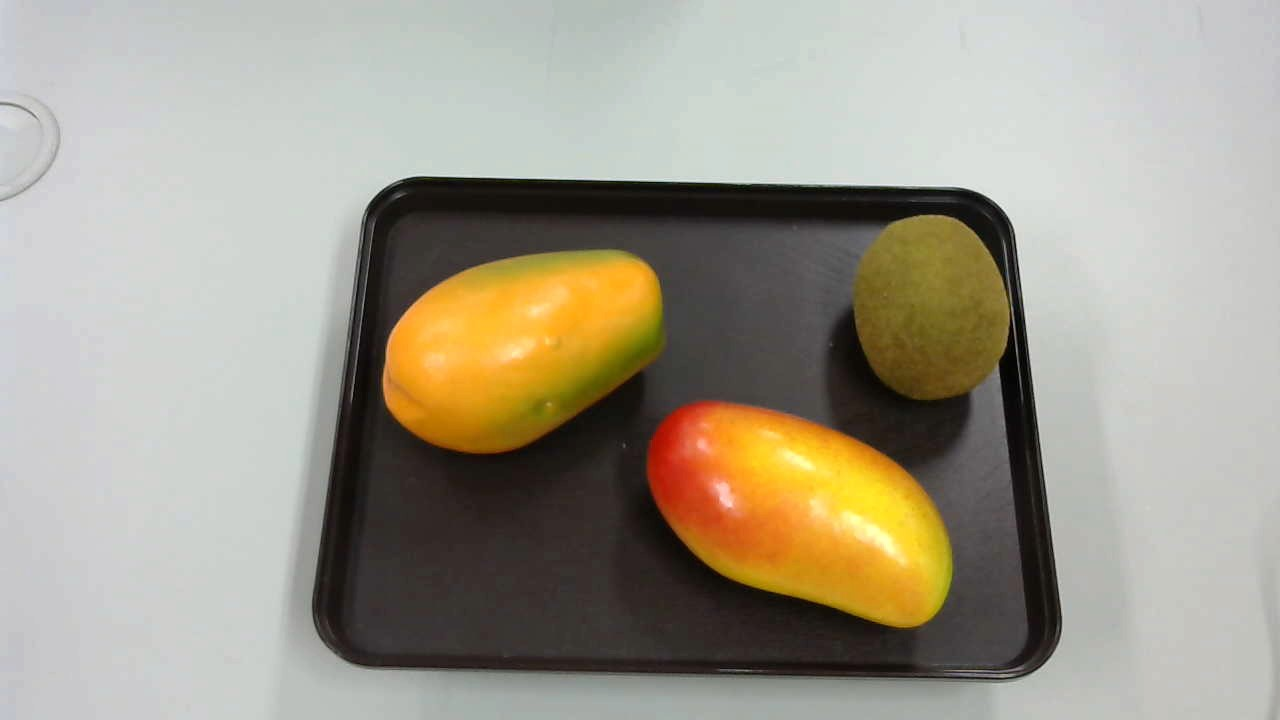kiwi fruit: (837, 206, 1018, 410)
papya: (381, 245, 669, 452)
red mango: (649, 398, 958, 640)
